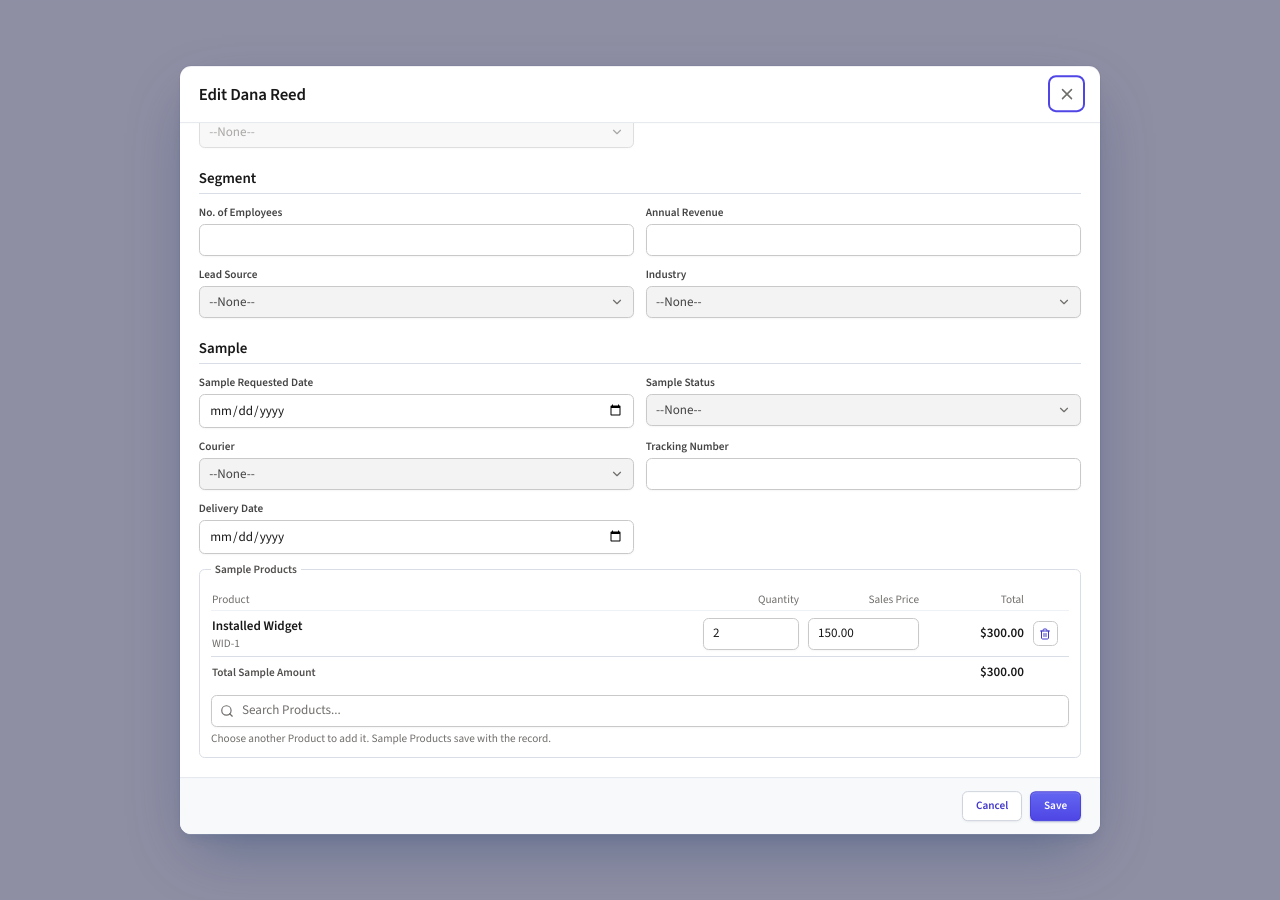
it: Product lines inside the record modal › keeps the total in step with an edited quantity
(page scrolled)
Expected: the text "$300.00" in the row of "Total Sample Amount" is shown, [980,663,1024,680]
Replace the text in the number field named "Quantity for Installed Widget" with "3" at (751, 634), box [702,618,799,650]
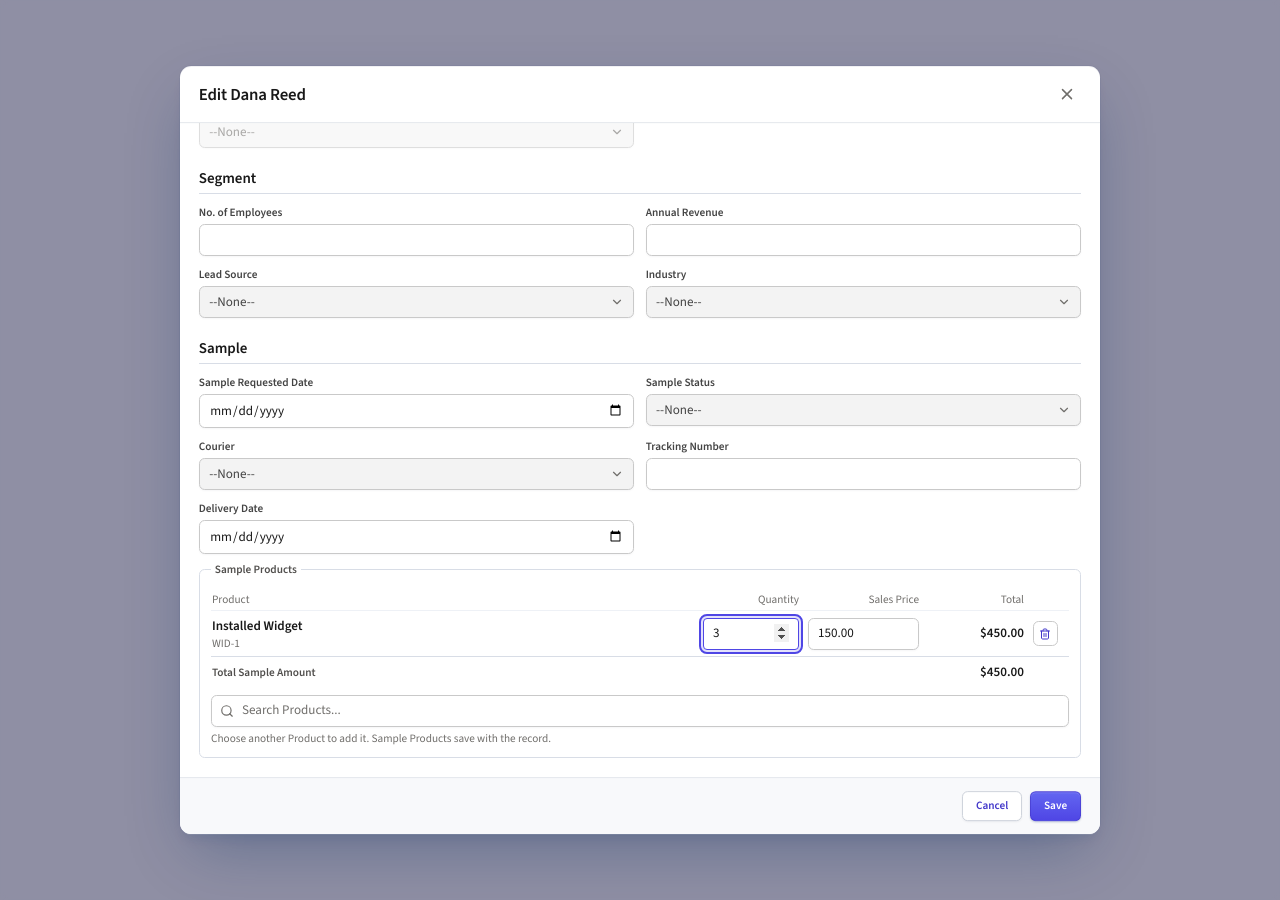
Expected: the text "$450.00" in the row of "Total Sample Amount" is shown, [980,663,1024,680]
